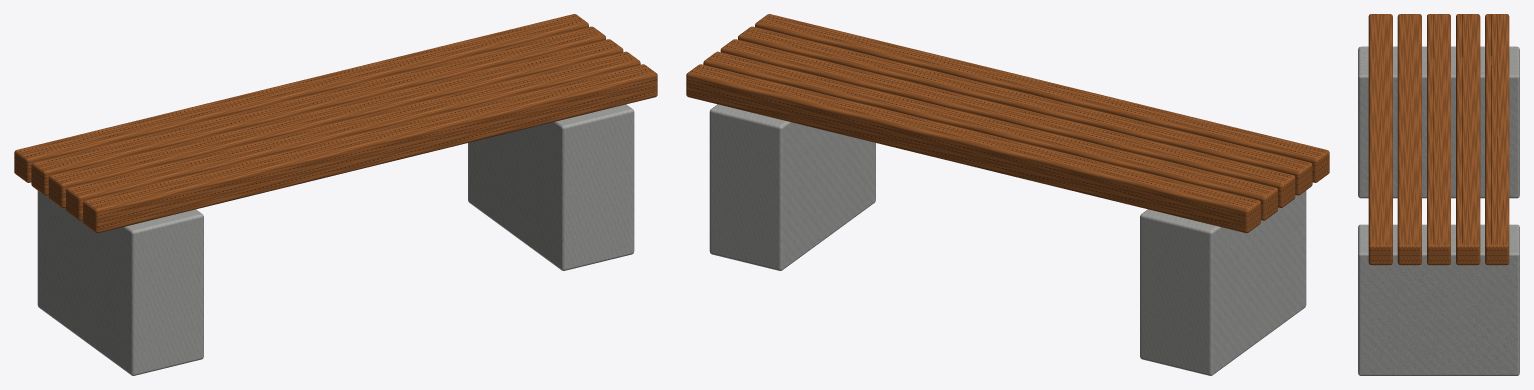
The model's file is prison-complex-builder-yard-bench-26762754__25677.glb.
3 renders of one model, left to right at view 1: azimuth 30°, elevation 25°; view 2: azimuth 150°, elevation 25°; view 3: azimuth 270°, elevation 25°, orthographic. The views are drawn at different scales.
Parts seen in each view (by area): view 1: yard-bench; view 2: yard-bench; view 3: yard-bench.
Part boxes in pixels (x1,y1,x2,y2): yard-bench: [14, 14, 657, 375]; yard-bench: [686, 14, 1329, 375]; yard-bench: [1358, 14, 1519, 375].
Bounding box in the file's own units: 1.7 × 0.4899 × 0.4999.
Materials: 3 (2 with a texture image).
